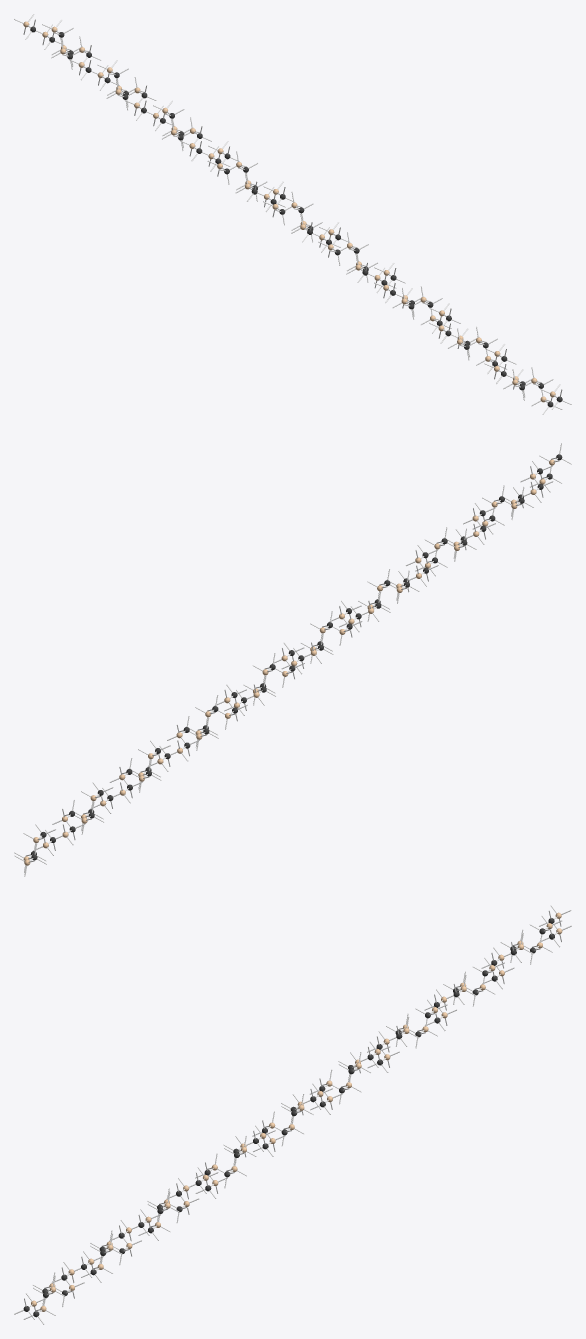
Rendered from structure_mpstyle.glb.
3 renders of one model, top to bottom at view 1: azimuth 30°, elevation 25°; view 2: azimuth 150°, elevation 25°; view 3: azimuth 330°, elevation 25°, orthographic. The views are drawn at different scales.
Visible parts, largest first — view 1: world; view 2: world; view 3: world.
Boxes of the visible parts, x1,y1,x2,y2 form: world: (14,14,571,414); world: (14,443,571,876); world: (14,905,571,1324).
Size of the model in its own units: 4.7 by 5.38 by 144.
